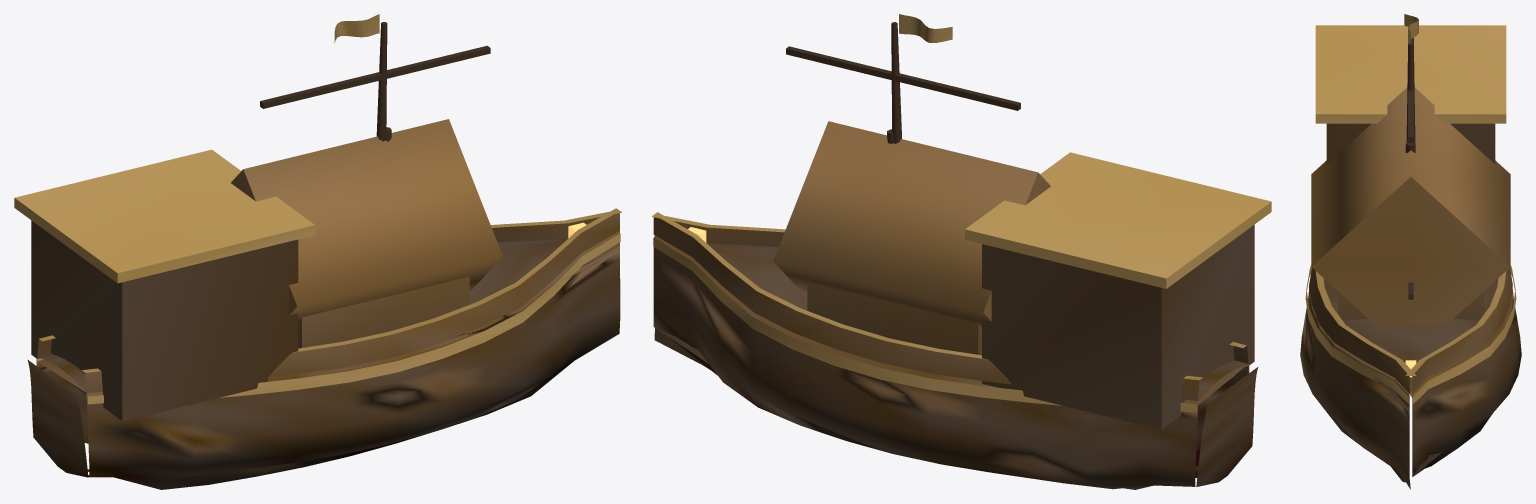
Rendered from garden-hero-heritage.glb.
3 views of the same model, side by side, from view 1: azimuth 30°, elevation 25°; view 2: azimuth 150°, elevation 25°; view 3: azimuth 270°, elevation 25° (orthographic). The views are drawn at different scales.
Visible parts, largest first — view 1: wood-hull, trim-hull, spar-hull; view 2: wood-hull, trim-hull, spar-hull; view 3: wood-hull, trim-hull, spar-hull.
Boxes of the visible parts, x1,y1,x2,y2 form: wood-hull: [27, 14, 621, 489]; trim-hull: [14, 149, 620, 404]; spar-hull: [260, 22, 490, 141]; wood-hull: [652, 14, 1258, 489]; trim-hull: [653, 152, 1271, 412]; spar-hull: [786, 22, 1020, 143]; wood-hull: [1300, 14, 1521, 489]; trim-hull: [1305, 25, 1516, 403]; spar-hull: [1405, 37, 1415, 299].
Bounding box in the file's own units: 10.48 × 7.52 × 3.84.
